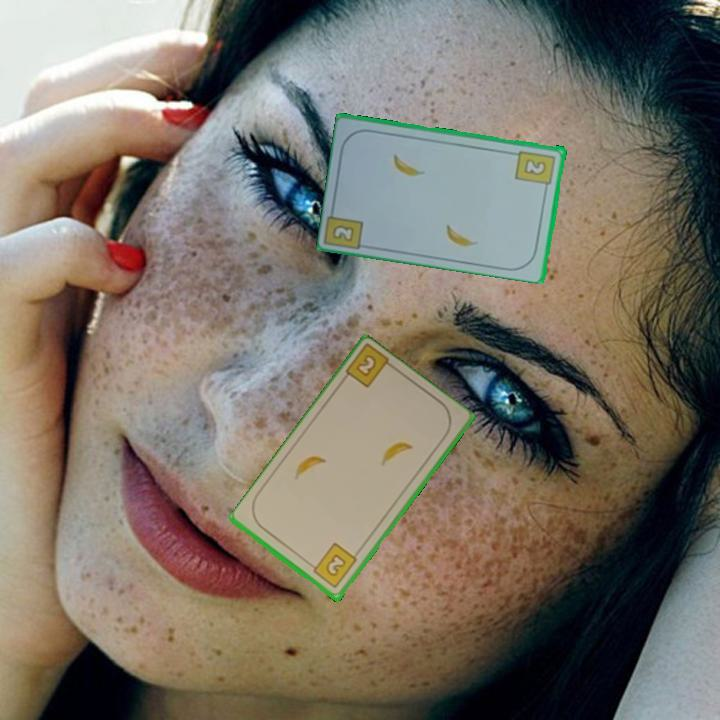2b: (307, 540, 360, 591), (513, 147, 558, 193), (353, 351, 380, 380), (329, 221, 357, 244)
